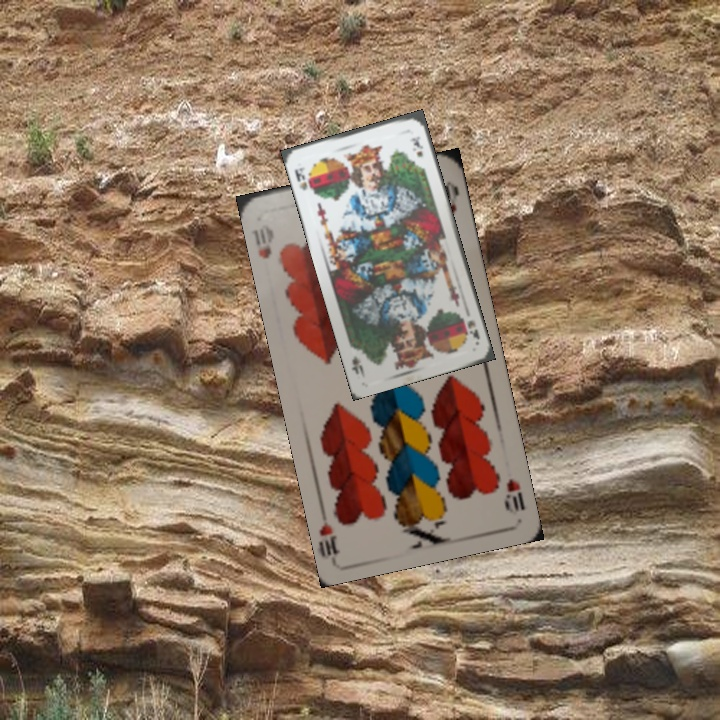H10: (500, 474, 528, 518), (250, 220, 277, 262)
SK: (291, 163, 310, 193), (463, 316, 482, 342)
